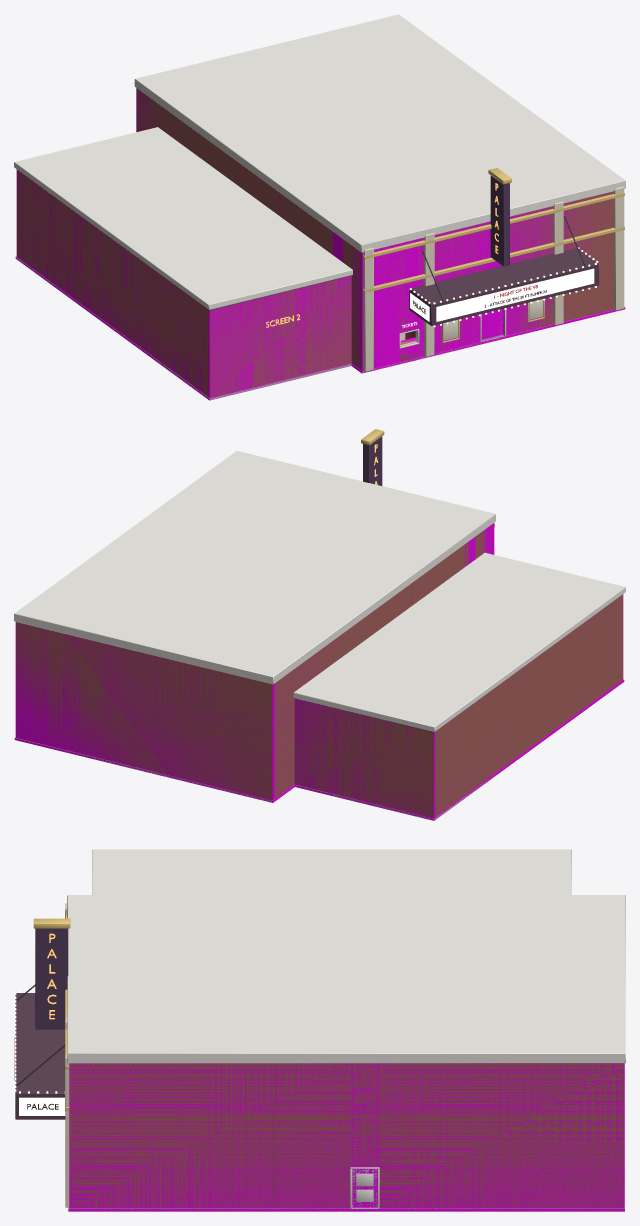
Rendered from cinema.glb.
3 views of the same model, one above another, from view 1: azimuth 30°, elevation 25°; view 2: azimuth 150°, elevation 25°; view 3: azimuth 270°, elevation 25° (orthographic). The views are drawn at different scales.
Parts seen in each view (by area): view 1: Cornice, Annex_Cornice, Annex_West, Annex_North, COL_Annex_North_0, Wall_Front, COL_Annex_West_0, Wall_West, Marquee, Deco_Pilasters, COL_Wall_Front_0, COL_Wall_Front_1 (+10 smaller); view 2: Cornice, Wall_Back, Annex_Cornice, COL_Wall_Back_0, Annex_West, Annex_South, COL_Annex_South_0, Wall_West, COL_Annex_Slab, Blade_Sign, COL_Slab; view 3: Cornice, Wall_East, COL_Wall_East_1, COL_Wall_East_0, Annex_Cornice, Marquee, Blade_Sign, COL_Wall_East_2, COL_Slab, Marquee_Board_S2, Deco_Pilasters, COL_Wall_Back_0 (+3 smaller).
Boxes of the visible parts, <box> form: Cornice: <box>134,14,625,252</box>; Annex_Cornice: <box>14,127,352,309</box>; Annex_West: <box>18,171,208,395</box>; Annex_North: <box>207,276,351,397</box>; COL_Annex_North_0: <box>208,276,351,397</box>; Wall_Front: <box>360,191,613,369</box>; COL_Annex_West_0: <box>19,171,208,396</box>; Wall_West: <box>137,89,359,368</box>; Marquee: <box>409,248,598,325</box>; Deco_Pilasters: <box>363,186,624,371</box>; COL_Wall_Front_0: <box>360,243,400,370</box>; COL_Wall_Front_1: <box>418,224,481,357</box>; Cornice: <box>14,451,495,684</box>; Wall_Back: <box>16,622,272,799</box>; Annex_Cornice: <box>293,552,625,731</box>; COL_Wall_Back_0: <box>15,622,274,800</box>; Annex_West: <box>435,596,621,816</box>; Annex_South: <box>294,699,435,817</box>; COL_Annex_South_0: <box>294,699,435,818</box>; Wall_West: <box>274,527,490,798</box>; COL_Annex_Slab: <box>295,679,624,820</box>; Blade_Sign: <box>363,436,382,485</box>; COL_Slab: <box>14,738,294,802</box>; Cornice: <box>67,895,625,1063</box>; Wall_East: <box>72,1063,620,1208</box>; COL_Wall_East_1: <box>72,1063,352,1208</box>; COL_Wall_East_0: <box>378,1063,621,1208</box>; Annex_Cornice: <box>92,849,571,894</box>; Marquee: <box>15,993,65,1119</box>; Blade_Sign: <box>35,928,68,1029</box>; COL_Wall_East_2: <box>352,1063,377,1167</box>; COL_Slab: <box>68,1063,624,1211</box>; Marquee_Board_S2: <box>19,1097,65,1115</box>; Deco_Pilasters: <box>65,903,69,1207</box>; COL_Wall_Back_0: <box>618,1063,624,1208</box>.
Bounding box in the file's own units: 31.55 × 12.75 × 33.42.
